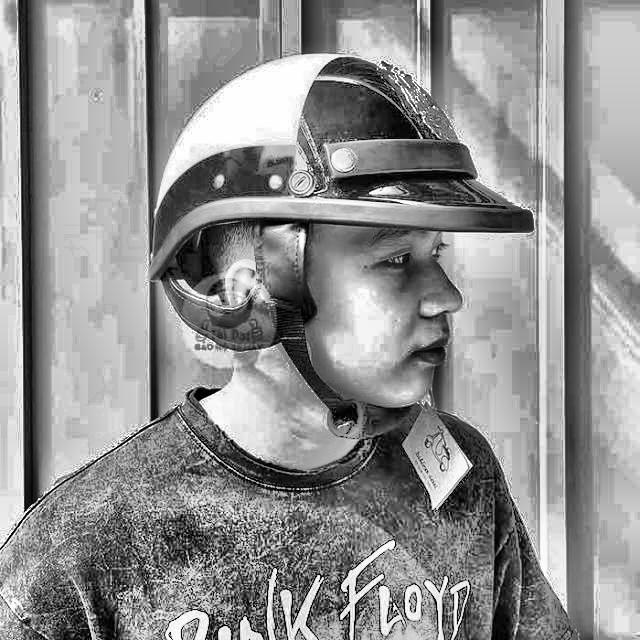Helmet: (136, 41, 542, 452)
